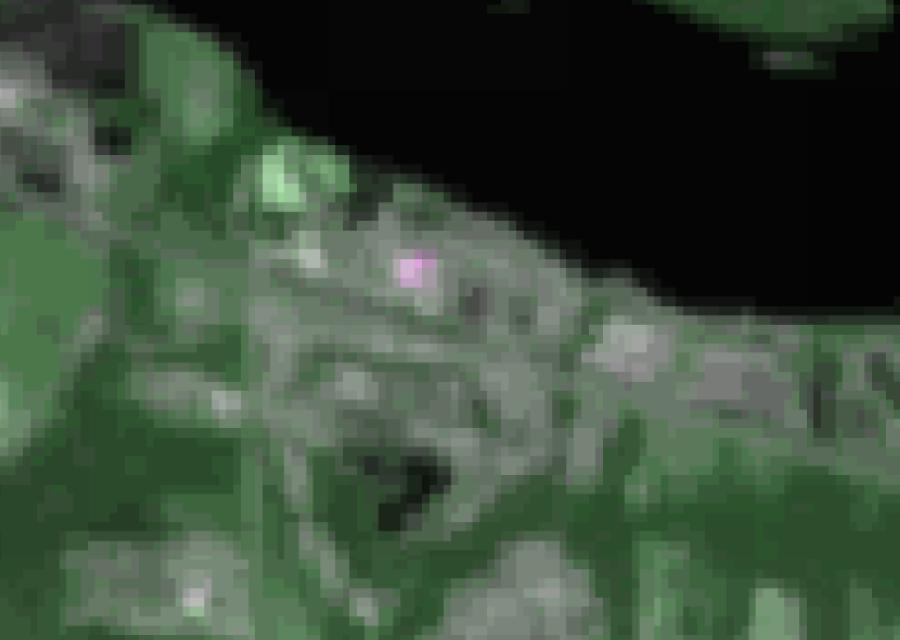Potential Lime Manufacturing Facility: (402, 250, 438, 285)
